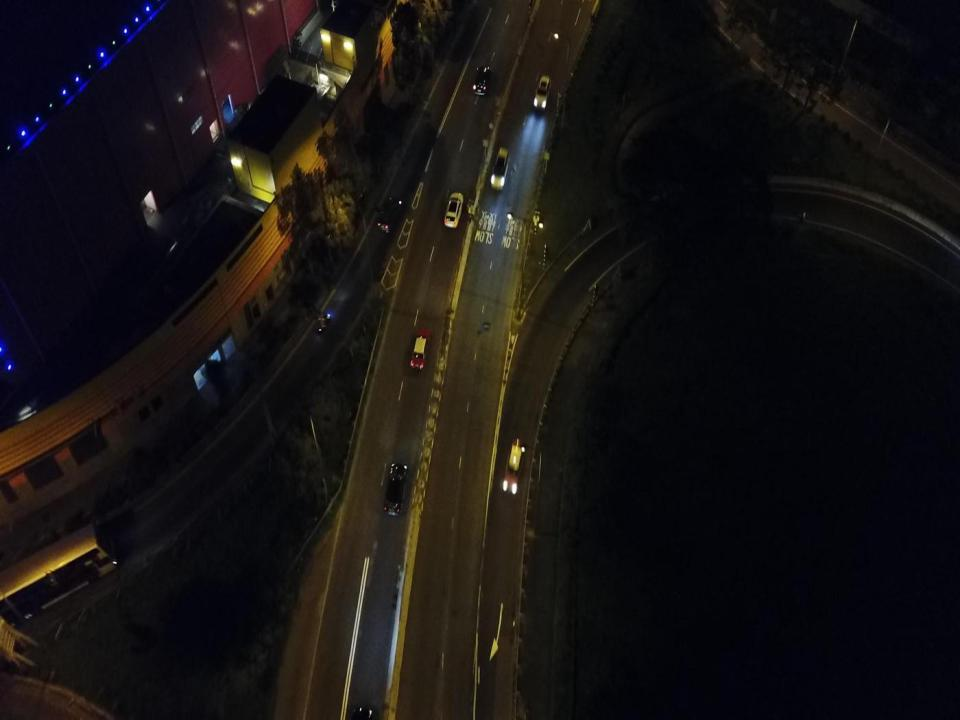bus: (0, 520, 118, 633)
car: (383, 464, 408, 516), (503, 438, 525, 494), (410, 328, 431, 370), (378, 196, 401, 233), (444, 192, 464, 228), (473, 65, 492, 96), (534, 75, 550, 110)
van: (491, 146, 510, 189)
